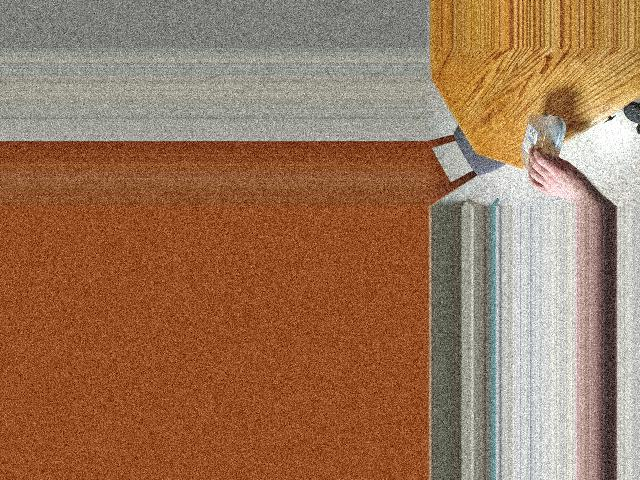cheese: (519, 126, 571, 189)
